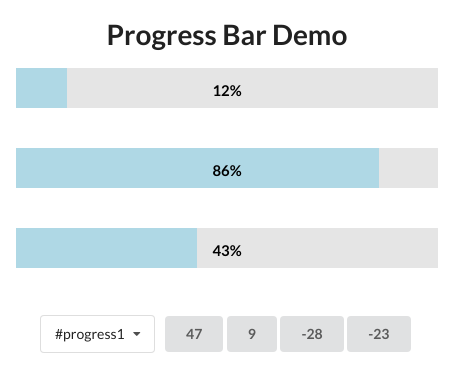
Test case: App › increment progress bar to limit
Check: the heading "Progress Bar Demo" is shown, box [107,16,347,50]
Click the button "47".
click(194, 334)  # box [165,316,223,352]
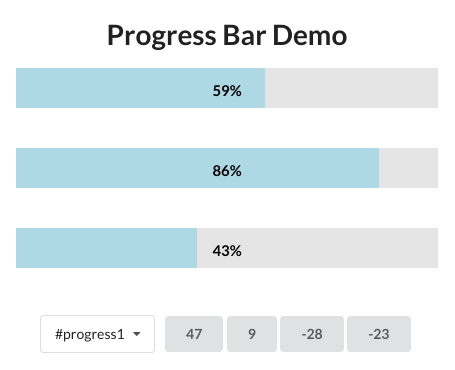
Check: the element showing "59%" is shown, box [16,68,438,108]
Click the button "47".
click(194, 334)  # box [165,316,223,352]
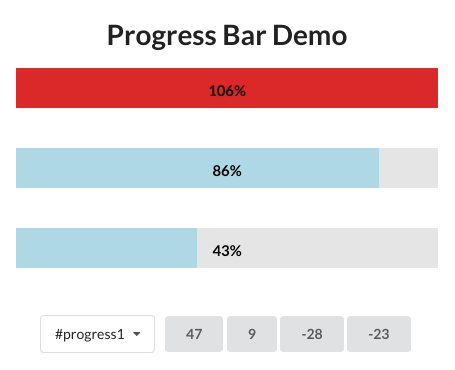
Check: the element showing "106%" is shown, box [16,68,438,108]
Click the button "47".
click(194, 334)  # box [165,316,223,352]
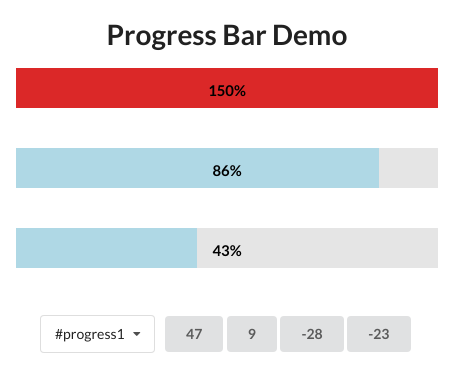
Check: the element showing "150%" does not show "153%", box [16,68,438,108]
Check: the element showing "150%" is shown, box [16,68,438,108]
